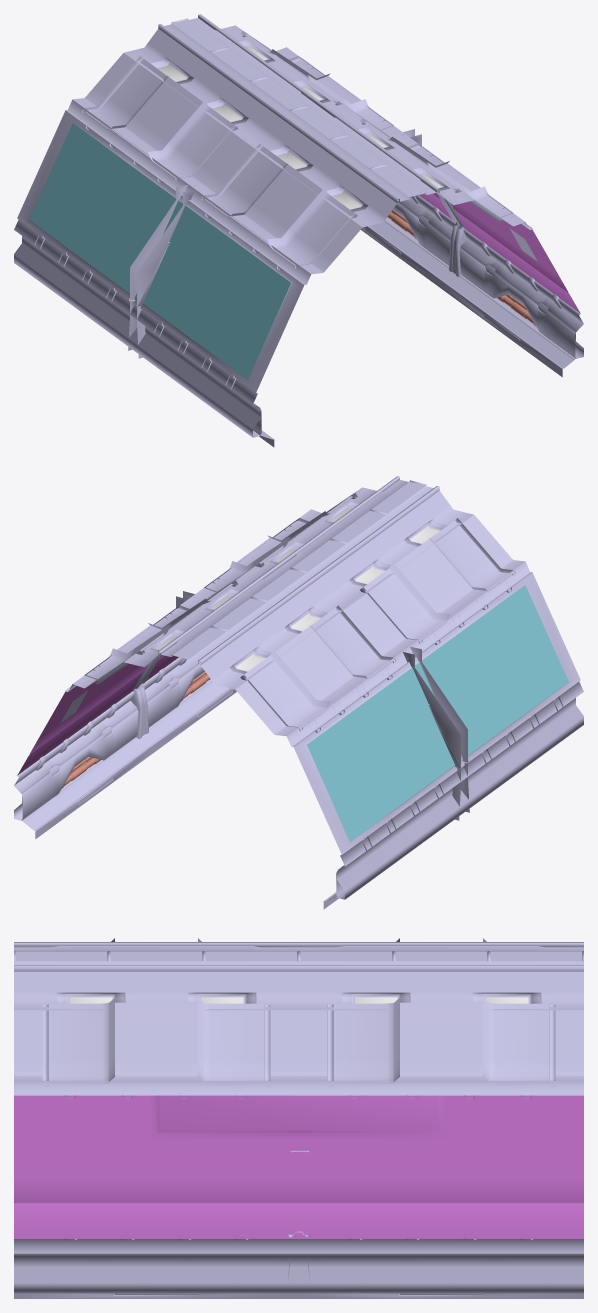
Rendered from HallWindow.fbx.
The picture shows the model from 3 angles, top to bottom: view 1: azimuth 30°, elevation 25°; view 2: azimuth 150°, elevation 25°; view 3: azimuth 270°, elevation 25°; orthographic projection. The views are drawn at different scales.
Visible parts, largest first — view 1: HallWindow; view 2: HallWindow; view 3: HallWindow.
Boxes of the visible parts, x1,y1,x2,y2 form: HallWindow: [14, 14, 583, 447]; HallWindow: [14, 476, 583, 909]; HallWindow: [14, 938, 583, 1298].
Bounding box in the file's own units: 8.05 × 5.04 × 10.
